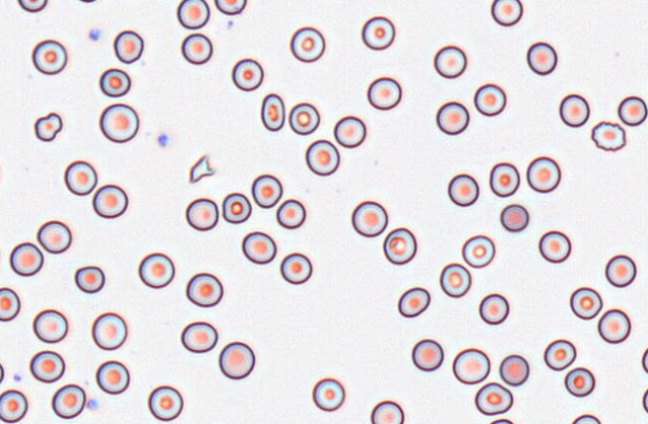PLT: (85, 398, 99, 412), (87, 27, 100, 41), (157, 134, 169, 149)
RBC: (99, 102, 139, 143), (452, 347, 490, 384), (218, 341, 255, 379), (91, 311, 127, 350), (351, 200, 388, 237), (138, 252, 175, 288), (185, 272, 223, 307), (526, 155, 561, 193), (474, 381, 513, 415), (147, 385, 183, 421), (289, 26, 325, 62), (305, 139, 340, 176), (92, 183, 128, 218), (31, 39, 67, 74), (32, 308, 68, 343), (382, 227, 416, 264), (51, 383, 85, 419), (9, 241, 43, 276), (36, 219, 71, 253), (361, 15, 395, 50), (597, 308, 631, 343), (366, 76, 401, 110), (29, 350, 65, 383), (180, 321, 217, 353), (435, 101, 469, 135), (461, 234, 495, 268), (433, 44, 467, 78), (311, 377, 345, 411), (95, 360, 129, 394), (64, 160, 97, 195), (241, 231, 276, 264), (439, 262, 471, 297), (489, 161, 520, 197), (185, 197, 218, 230), (538, 230, 571, 263), (473, 83, 506, 116), (333, 115, 366, 148), (569, 286, 602, 319), (591, 120, 626, 151), (251, 173, 282, 208), (411, 338, 443, 371), (543, 338, 576, 370), (279, 252, 312, 284), (288, 102, 320, 135), (447, 173, 479, 206), (231, 58, 263, 91), (604, 254, 636, 287), (526, 41, 557, 75), (558, 93, 589, 127), (397, 286, 430, 317), (113, 29, 143, 63), (181, 32, 212, 64), (564, 366, 595, 397), (478, 293, 509, 324), (499, 354, 529, 386), (176, 0, 209, 29), (260, 93, 285, 131), (99, 67, 130, 97), (221, 192, 251, 223), (276, 198, 306, 229), (617, 95, 647, 126), (0, 389, 27, 423), (74, 265, 105, 293), (490, 0, 523, 26), (500, 203, 529, 232), (370, 400, 404, 424), (0, 286, 20, 321), (214, 0, 247, 15), (17, 0, 47, 12), (570, 413, 601, 424), (641, 346, 648, 373), (487, 418, 514, 424), (642, 387, 648, 413), (0, 157, 3, 189), (0, 360, 4, 384), (0, 240, 3, 271), (75, 0, 100, 3)
Schistocyte: (190, 153, 217, 184), (34, 113, 62, 142)
